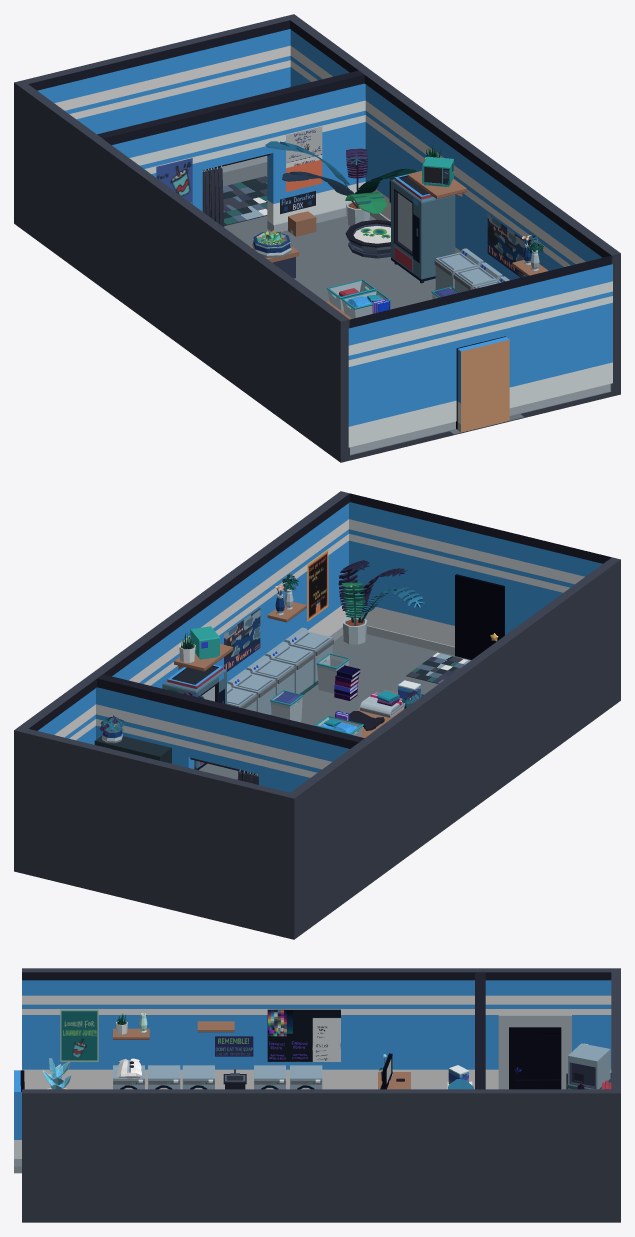
File: INT_Laundromart.fbx
The picture shows the model from 3 angles, top to bottom: view 1: azimuth 30°, elevation 25°; view 2: azimuth 150°, elevation 25°; view 3: azimuth 270°, elevation 25°; orthographic projection. The views are drawn at different scales.
Visible parts, largest first — view 1: Walls, VendingMachine, Plants.012, Rug, Posters.022, Posters.002, HandSplasher, WashingMachine.004, CurtainOpen, Posters.014, TV, WashingMachine (+5 smaller); view 2: Walls, Door.032, Plants.001, VendingMachine, Posters.002, WashingMachine.002, Posters.004, WashingMachine, Rug.001, Shelf.001, WashingMachine.001, WashingMachine.003 (+5 smaller); view 3: Walls, Posters.021, Door, Posters, BrokenDryer, Dryers.001, Dryers.002, Dryers, Posters.001, Dryers.004, Plants.002, Dryers.003 (+5 smaller).
Boxes of the visible parts, x1,y1,x2,y2 form: Walls: [14, 14, 620, 462]; VendingMachine: [391, 171, 455, 283]; Plants.012: [265, 141, 416, 213]; Rug: [223, 176, 267, 225]; Posters.022: [286, 126, 322, 191]; Posters.002: [487, 214, 523, 277]; HandSplasher: [345, 219, 390, 258]; WashingMachine.004: [434, 248, 483, 290]; CurtainOpen: [202, 165, 224, 227]; Posters.014: [156, 158, 192, 204]; TV: [422, 156, 453, 187]; WashingMachine: [453, 262, 502, 292]; Walls: [14, 491, 620, 939]; Door.032: [455, 574, 504, 659]; Plants.001: [338, 560, 424, 625]; VendingMachine: [162, 664, 226, 770]; Posters.002: [224, 608, 260, 671]; WashingMachine.002: [266, 641, 314, 694]; Posters.004: [307, 550, 328, 621]; WashingMachine: [228, 669, 276, 715]; Rug.001: [406, 652, 470, 683]; Shelf.001: [94, 735, 171, 763]; WashingMachine.001: [247, 655, 295, 695]; WashingMachine.003: [285, 627, 333, 686]; Walls: [14, 968, 620, 1222]; Posters.021: [267, 1009, 340, 1061]; Door: [509, 1027, 561, 1089]; Posters: [60, 1009, 98, 1061]; BrokenDryer: [567, 1043, 611, 1089]; Dryers.001: [182, 1065, 214, 1089]; Dryers.002: [148, 1065, 180, 1089]; Dryers: [290, 1065, 322, 1089]; Posters.001: [215, 1036, 253, 1056]; Dryers.004: [254, 1065, 285, 1089]; Plants.002: [42, 1058, 71, 1089]; Dryers.003: [113, 1065, 144, 1089].
Bounding box in the file's own units: 1028 × 495 × 2104.
